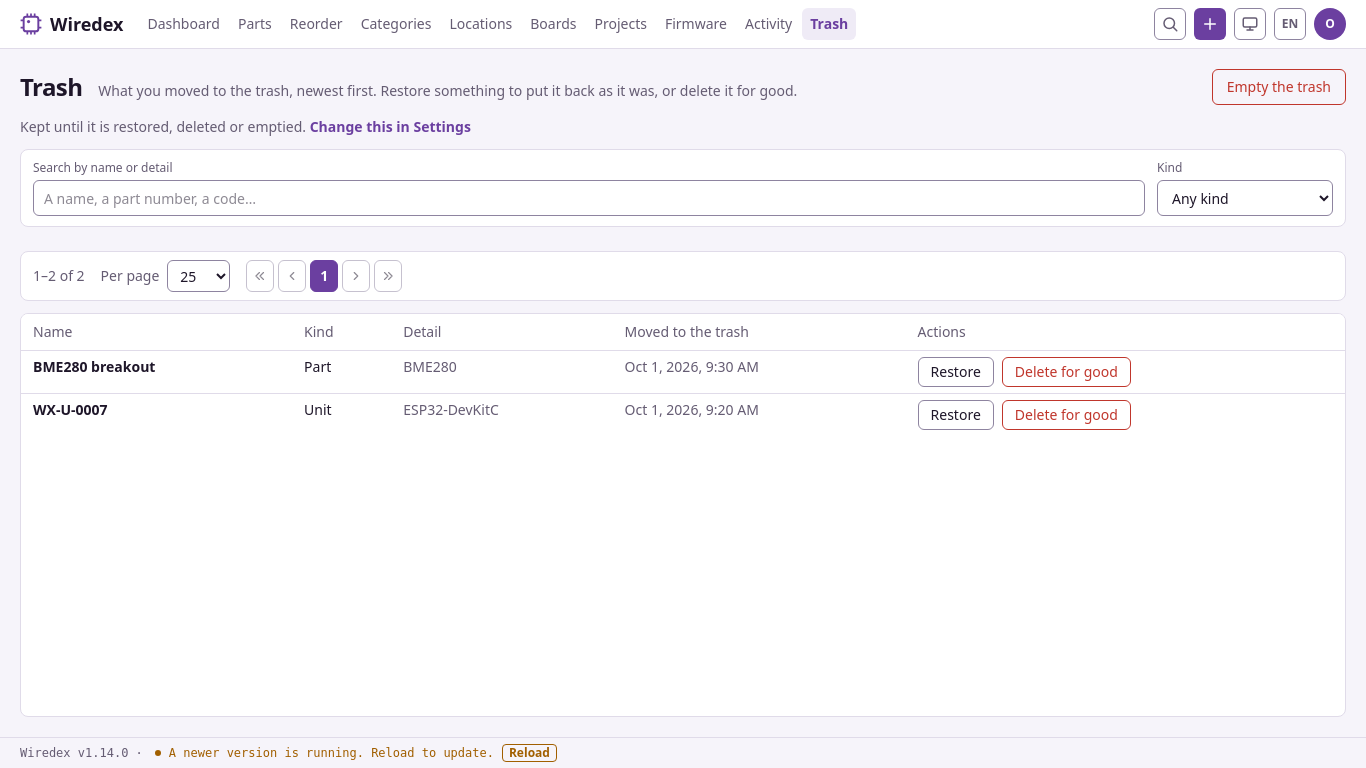
TrashPage › says a restore didn't happen, and drops a record no longer in the trash
Click the button with aria-label "Restore BME280 breakout": (956, 372) [918,357,994,387]
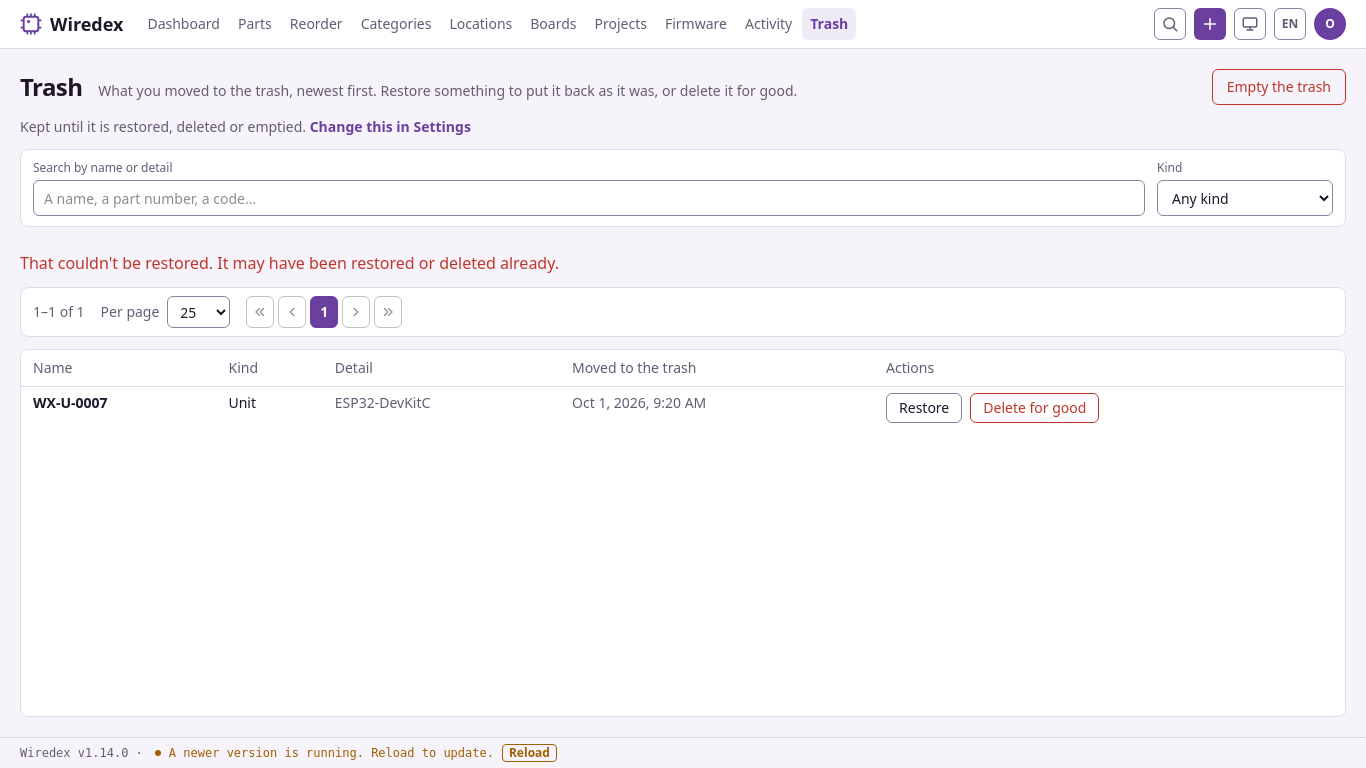
Result: the message "That couldn't be restored. It may have been restored or deleted already." is shown at [20,252,559,274]
Result: the column heading "BME280 breakout" is gone
